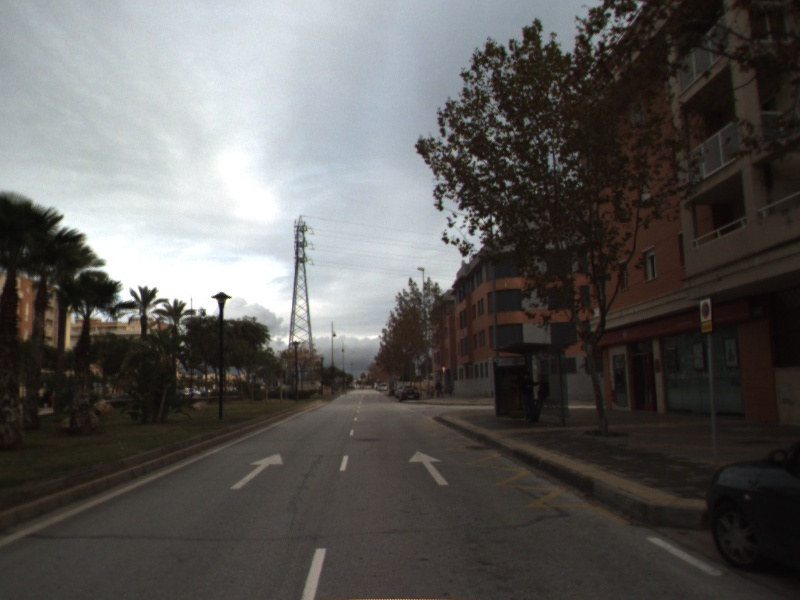STRAIGHT: (228, 451, 286, 491), (407, 448, 451, 487)
